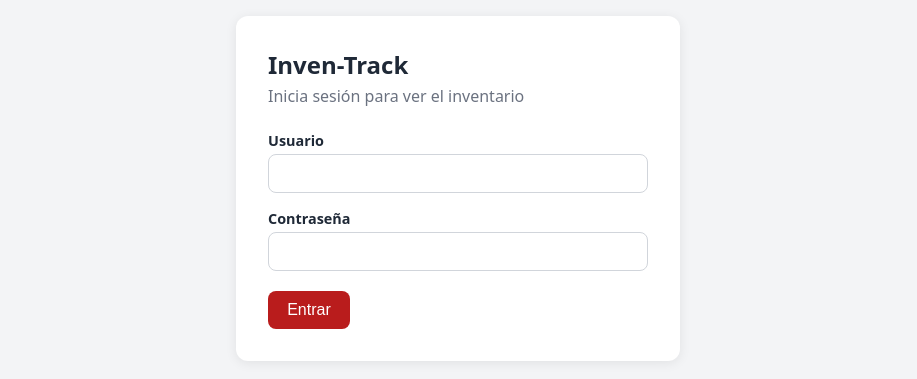
App › tras un login correcto muestra la tabla de productos
In the field labelled "Usuario": (458, 174) [268, 154, 648, 193], type "admin"
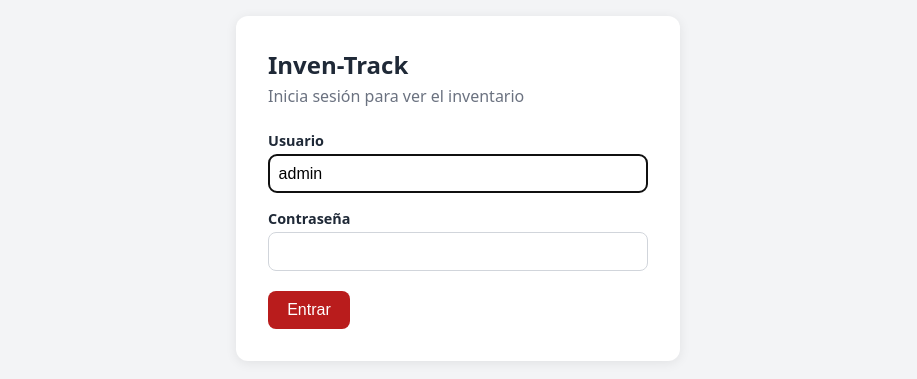
In the password field labelled "Contraseña": (458, 252) [268, 232, 648, 271], type "admin123"
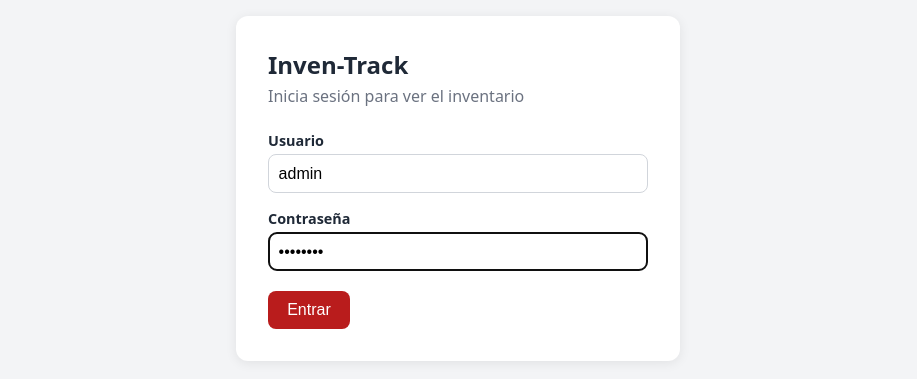
Click the button "Entrar": (309, 310) [268, 291, 350, 329]
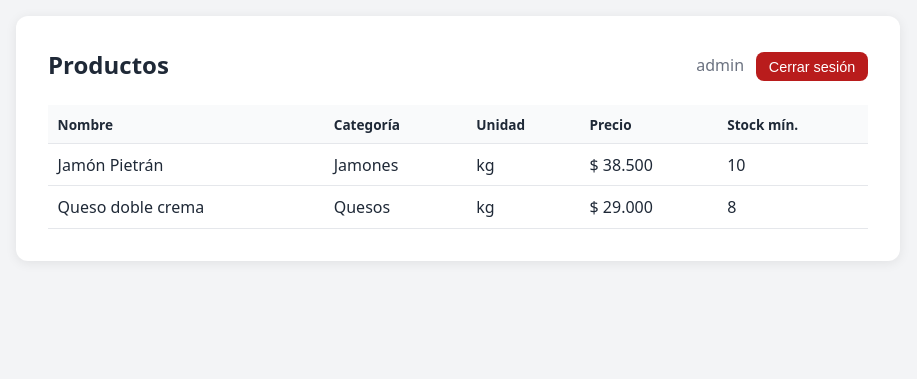
Result: the text "Jamón Pietrán" is shown at [48, 144, 324, 186]
Result: the text "Queso doble crema" is shown at [48, 186, 324, 228]
